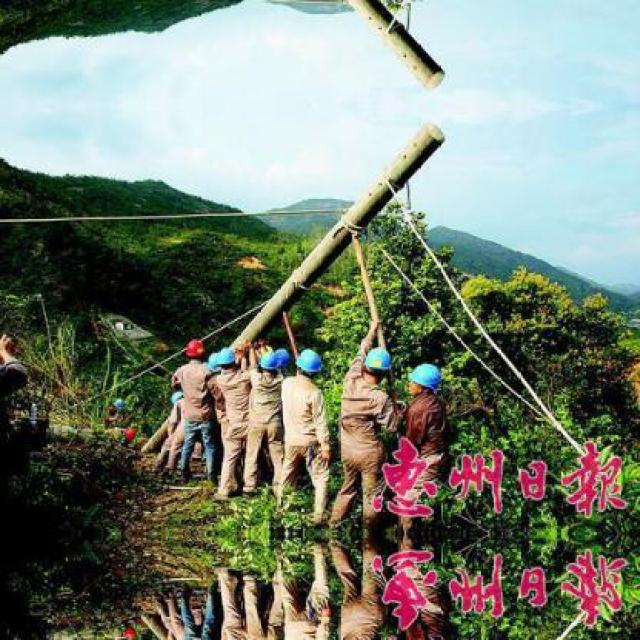helmet: (405, 360, 441, 403), (359, 343, 392, 383), (292, 343, 323, 380), (255, 351, 277, 375), (217, 345, 238, 369), (185, 337, 206, 359), (273, 345, 290, 369)
